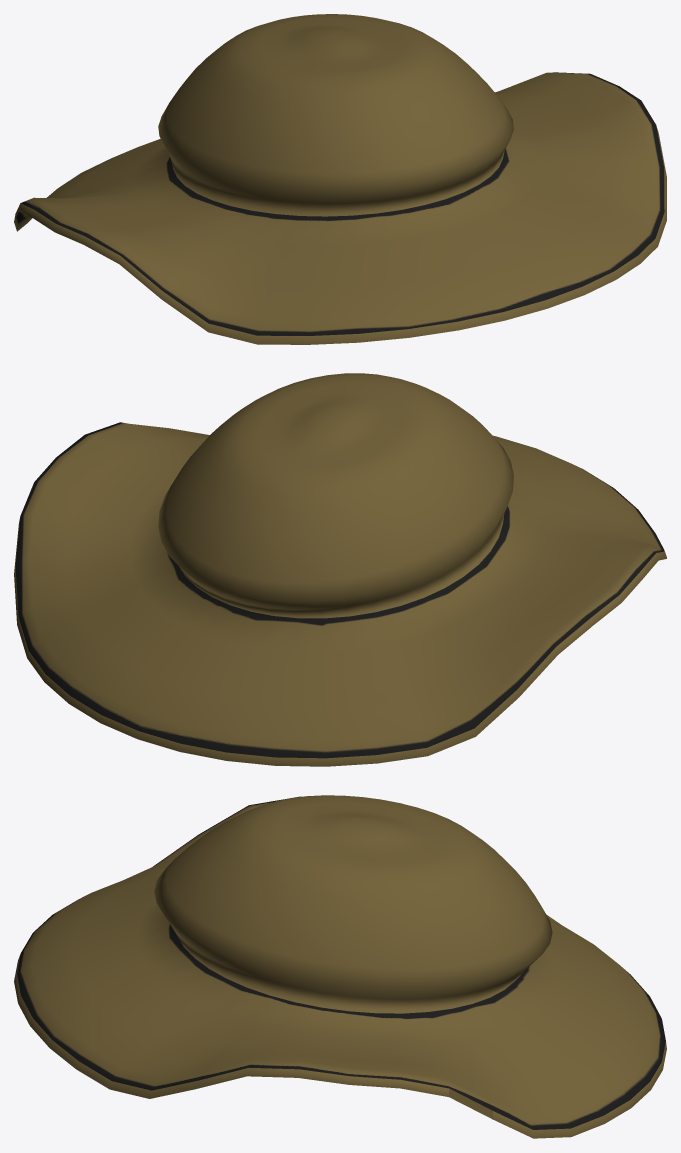
Rendered from hat.fbx.
3 renders of one model, top to bottom at view 1: azimuth 30°, elevation 25°; view 2: azimuth 150°, elevation 25°; view 3: azimuth 270°, elevation 25°, orthographic.
Parts seen in each view (by area): view 1: polySurface25; view 2: polySurface25; view 3: polySurface25.
Part boxes in pixels (box(x1,y1,x2,y2)): polySurface25: box(14, 14, 666, 344); polySurface25: box(14, 373, 666, 766); polySurface25: box(14, 795, 666, 1138).
Size of the model in its own units: 1.19 by 0.4504 by 1.18.
Materials: 1 (1 with a texture image).
